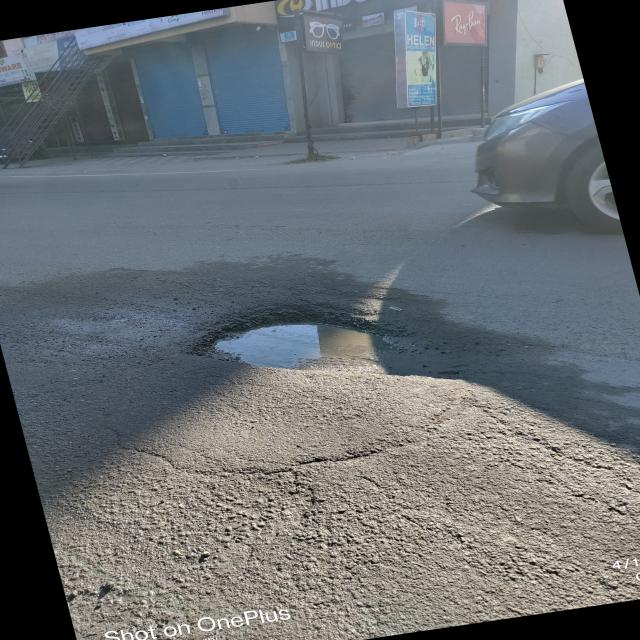Puddle pothole: (201, 309, 406, 376)
